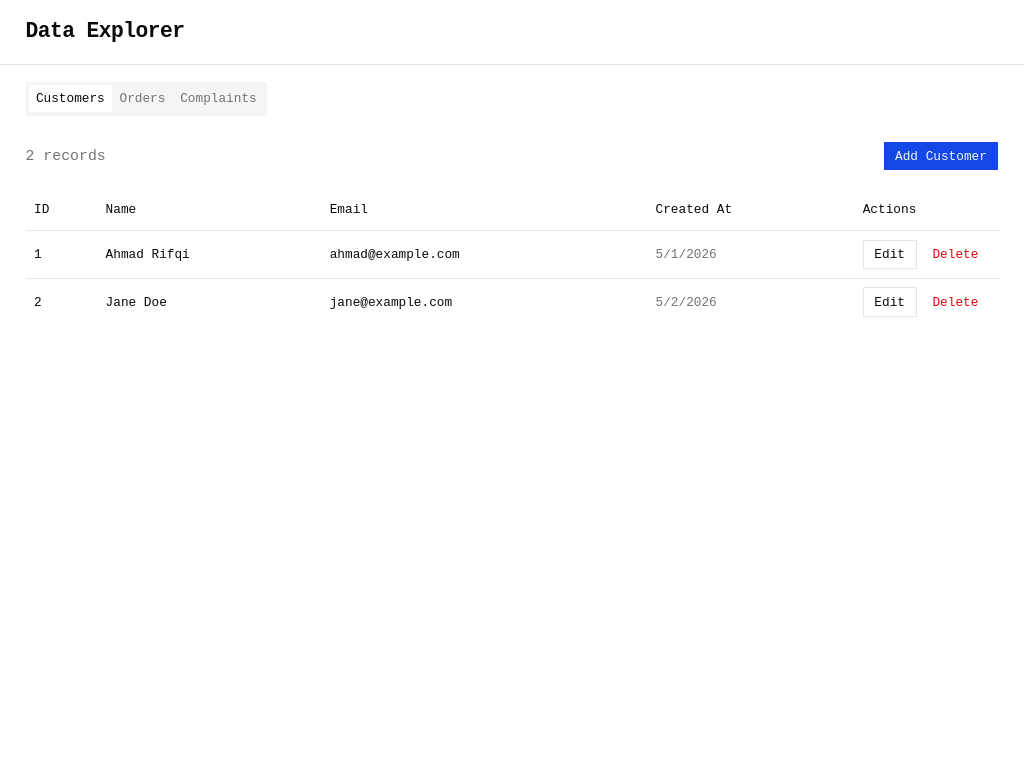
it: DataPage Customers CRUD › deletes a customer after confirmation dialog
Expected: the text "Ahmad Rifqi" is shown, [97,230,321,278]
Click the button "Delete" in the row of "Ahmad Rifqi". click: (955,254)
box: [921,240,990,269]
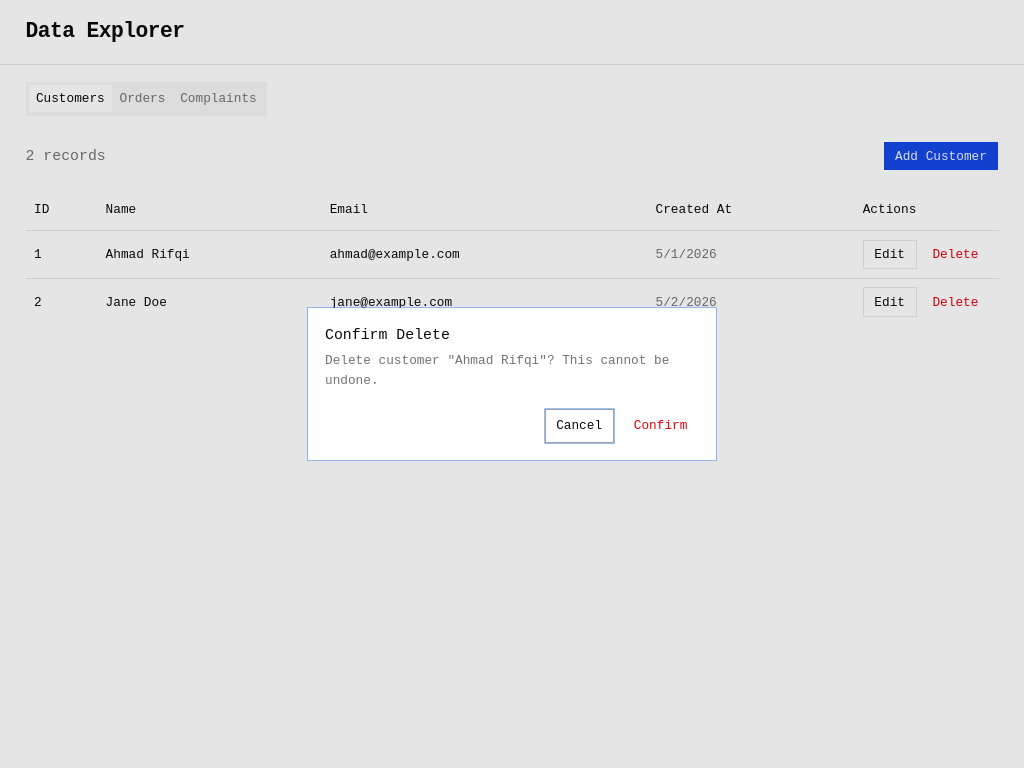
Click the button "Confirm". click: (661,426)
box: [622,409,699,443]
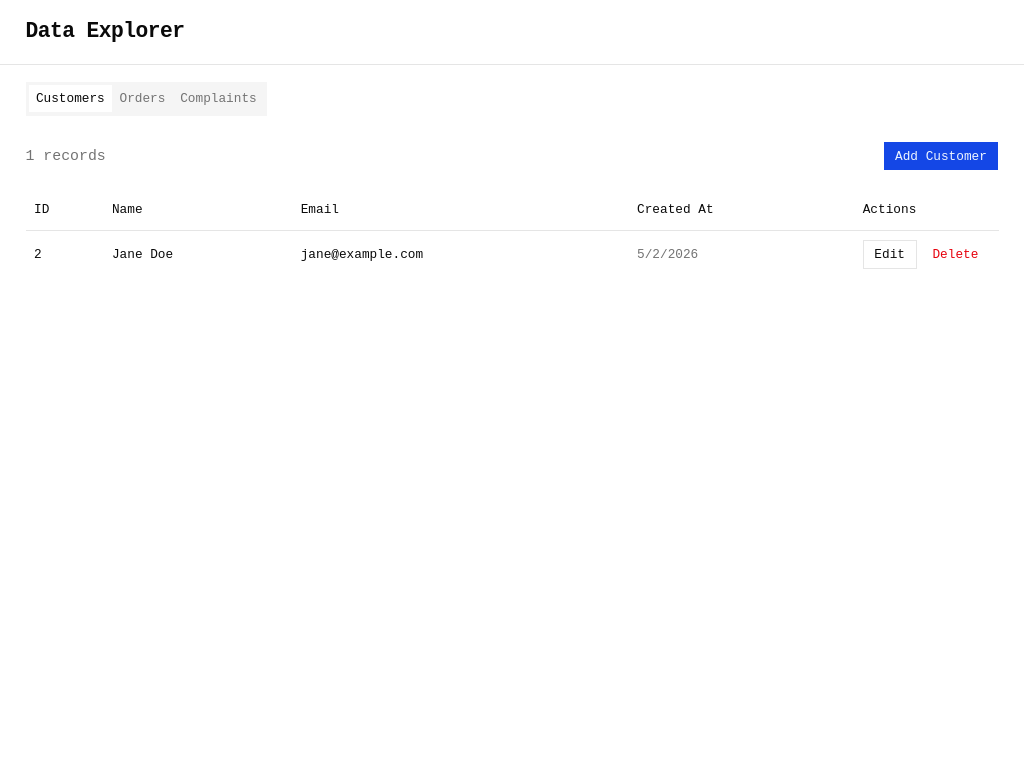
Result: the text "Ahmad Rifqi" is gone
